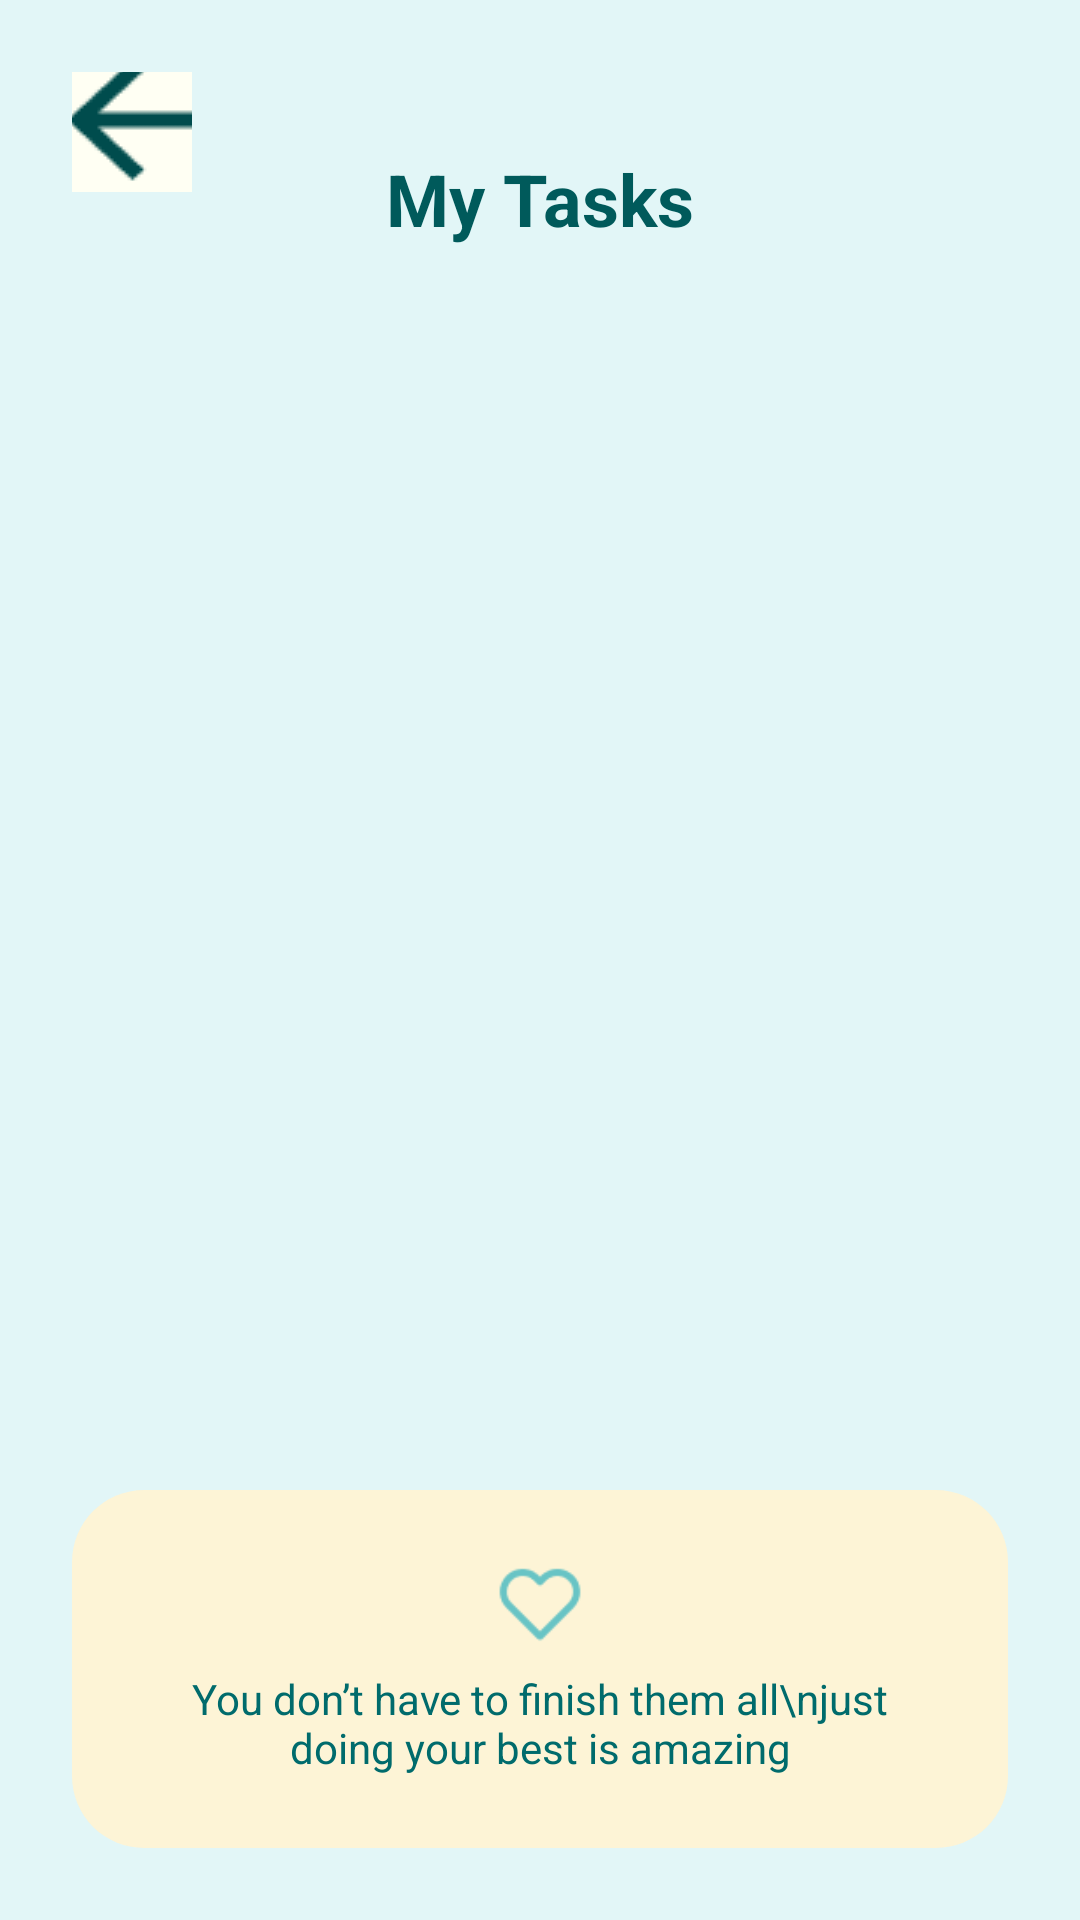

Icon click points for this 1080 x 1920 phone screenshot, format (x=x, y=y):
back: (x=132, y=132)
heart: (x=540, y=1604)
